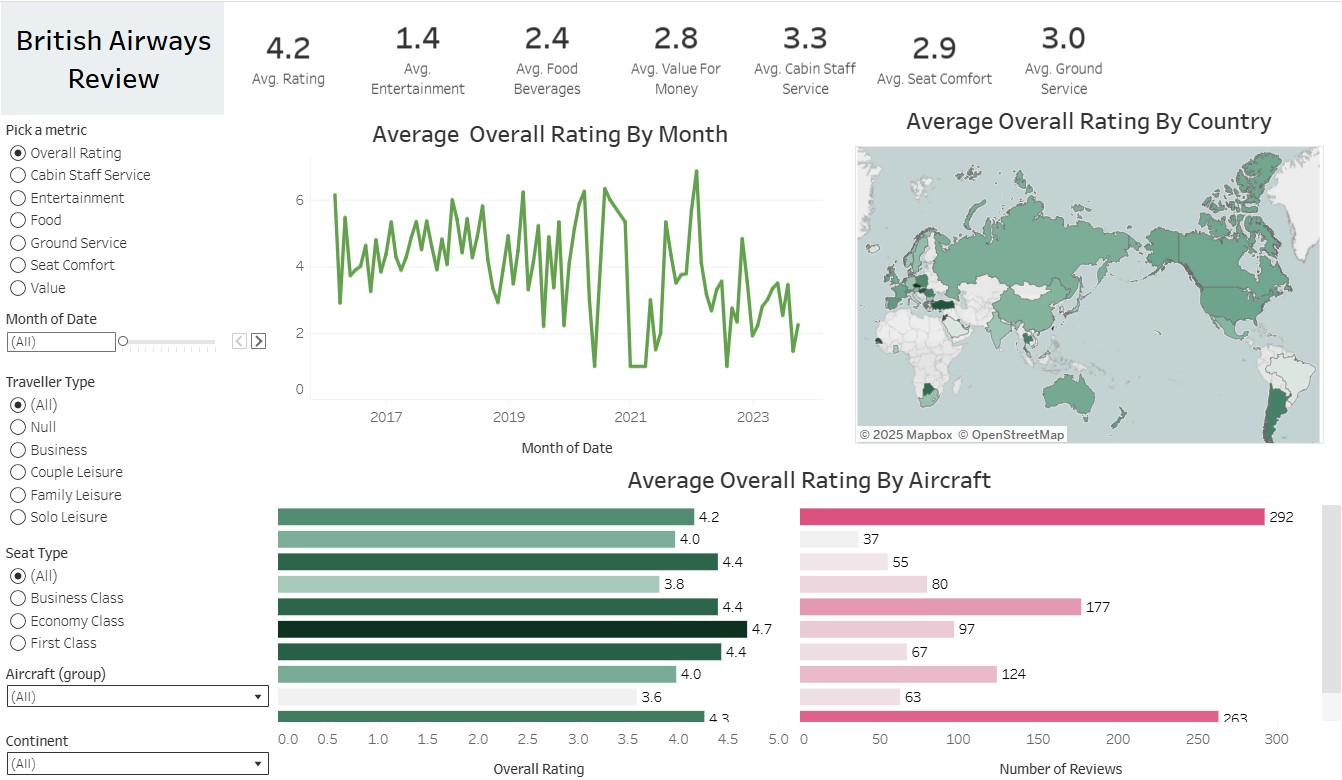

What the dashboard file says about the page in this screenshot:
{"tool":"tableau","page":{"name":"Dashboard 1","canvas":[1200,700],"ordinal":0},"visuals":[{"type":"text","box":[0,0,200,100]},{"type":"worksheet","title":"Map","mark":"Automatic","box":[759,85,417,308]},{"type":"worksheet","title":"Avrg Cabin Staff","mark":"Automatic","rows":["Calculation_1055593818308649"],"cols":["date"],"box":[245,96,486,314]},{"type":"parameter","param":"[Parameters].[Parameter 1]","box":[0,101,243,168]},{"type":"filter","title":"Map","param":"[federated.13oc14514i63fn1gl9n430rglsap].[mn:date:ok]","box":[0,269,243,56]},{"type":"filter","title":"Map","param":"[federated.13oc14514i63fn1gl9n430rglsap].[none:traveller_type:nk]","box":[0,325,243,152]},{"type":"worksheet","title":"Sheet 4","mark":"Automatic","cols":["Calculation_1055593818308649","ba_reviews.csv_1F6E40AD19394681AC386F2335F5084B"],"box":[246,404,947,292]},{"type":"filter","title":"Map","param":"[federated.13oc14514i63fn1gl9n430rglsap].[none:seat_type:nk]","box":[0,477,243,107]},{"type":"text","box":[97,492,100,30]},{"type":"filter","title":"Map","param":"[federated.13oc14514i63fn1gl9n430rglsap].[Aircraft (group)]","box":[0,584,243,60]},{"type":"filter","title":"Map","param":"[federated.13oc14514i63fn1gl9n430rglsap].[none:Continent:nk]","box":[0,644,243,56]}]}

Visuals, with their boxes in screenshot pixels (x1, y1, x2, y2), scaled from the page's 1200x700 canvas onto the 1342x780 screenshot:
text: x1=0, y1=0, x2=224, y2=111
"Map" worksheet: x1=849, y1=95, x2=1315, y2=438
"Avrg Cabin Staff" worksheet: x1=274, y1=107, x2=818, y2=457
parameter: x1=0, y1=113, x2=272, y2=300
"Map" filter: x1=0, y1=300, x2=272, y2=362
"Map" filter: x1=0, y1=362, x2=272, y2=532
"Sheet 4" worksheet: x1=275, y1=450, x2=1334, y2=776
"Map" filter: x1=0, y1=532, x2=272, y2=651
text: x1=108, y1=548, x2=220, y2=582
"Map" filter: x1=0, y1=651, x2=272, y2=718
"Map" filter: x1=0, y1=718, x2=272, y2=779
